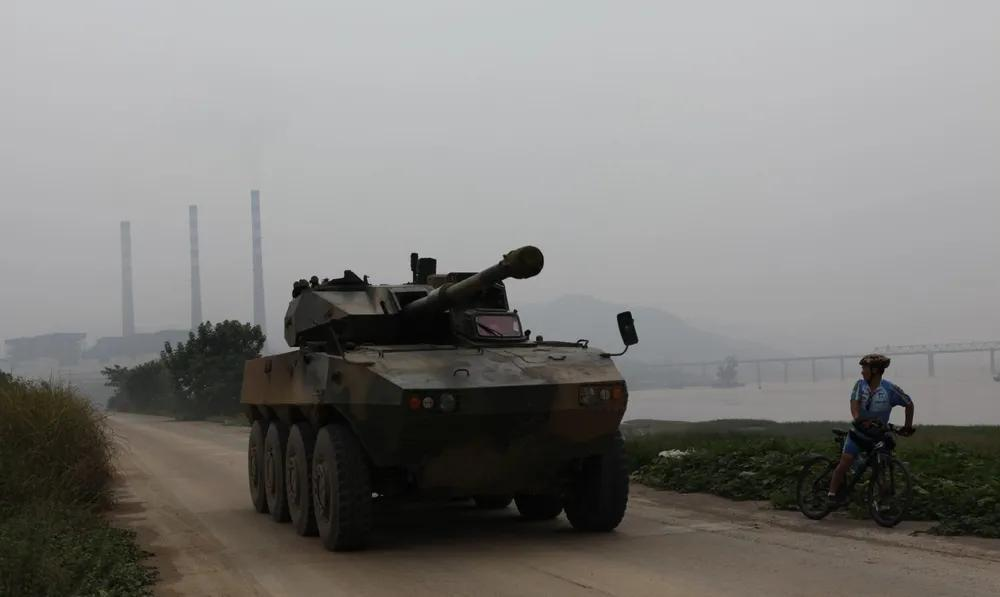MIL_IFV: (237, 231, 644, 549)
